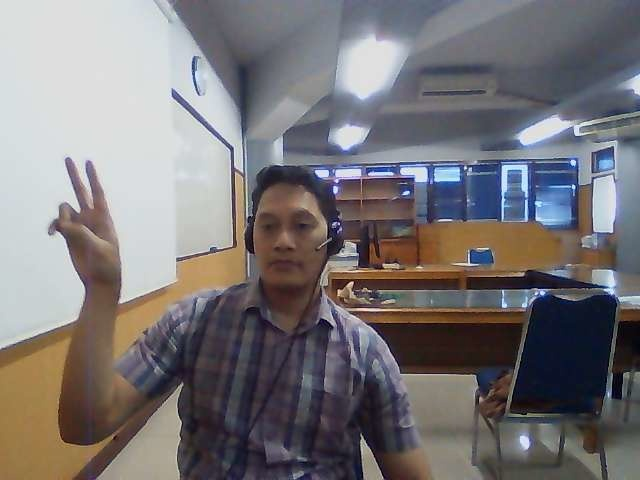Peace: (43, 156, 123, 295)
